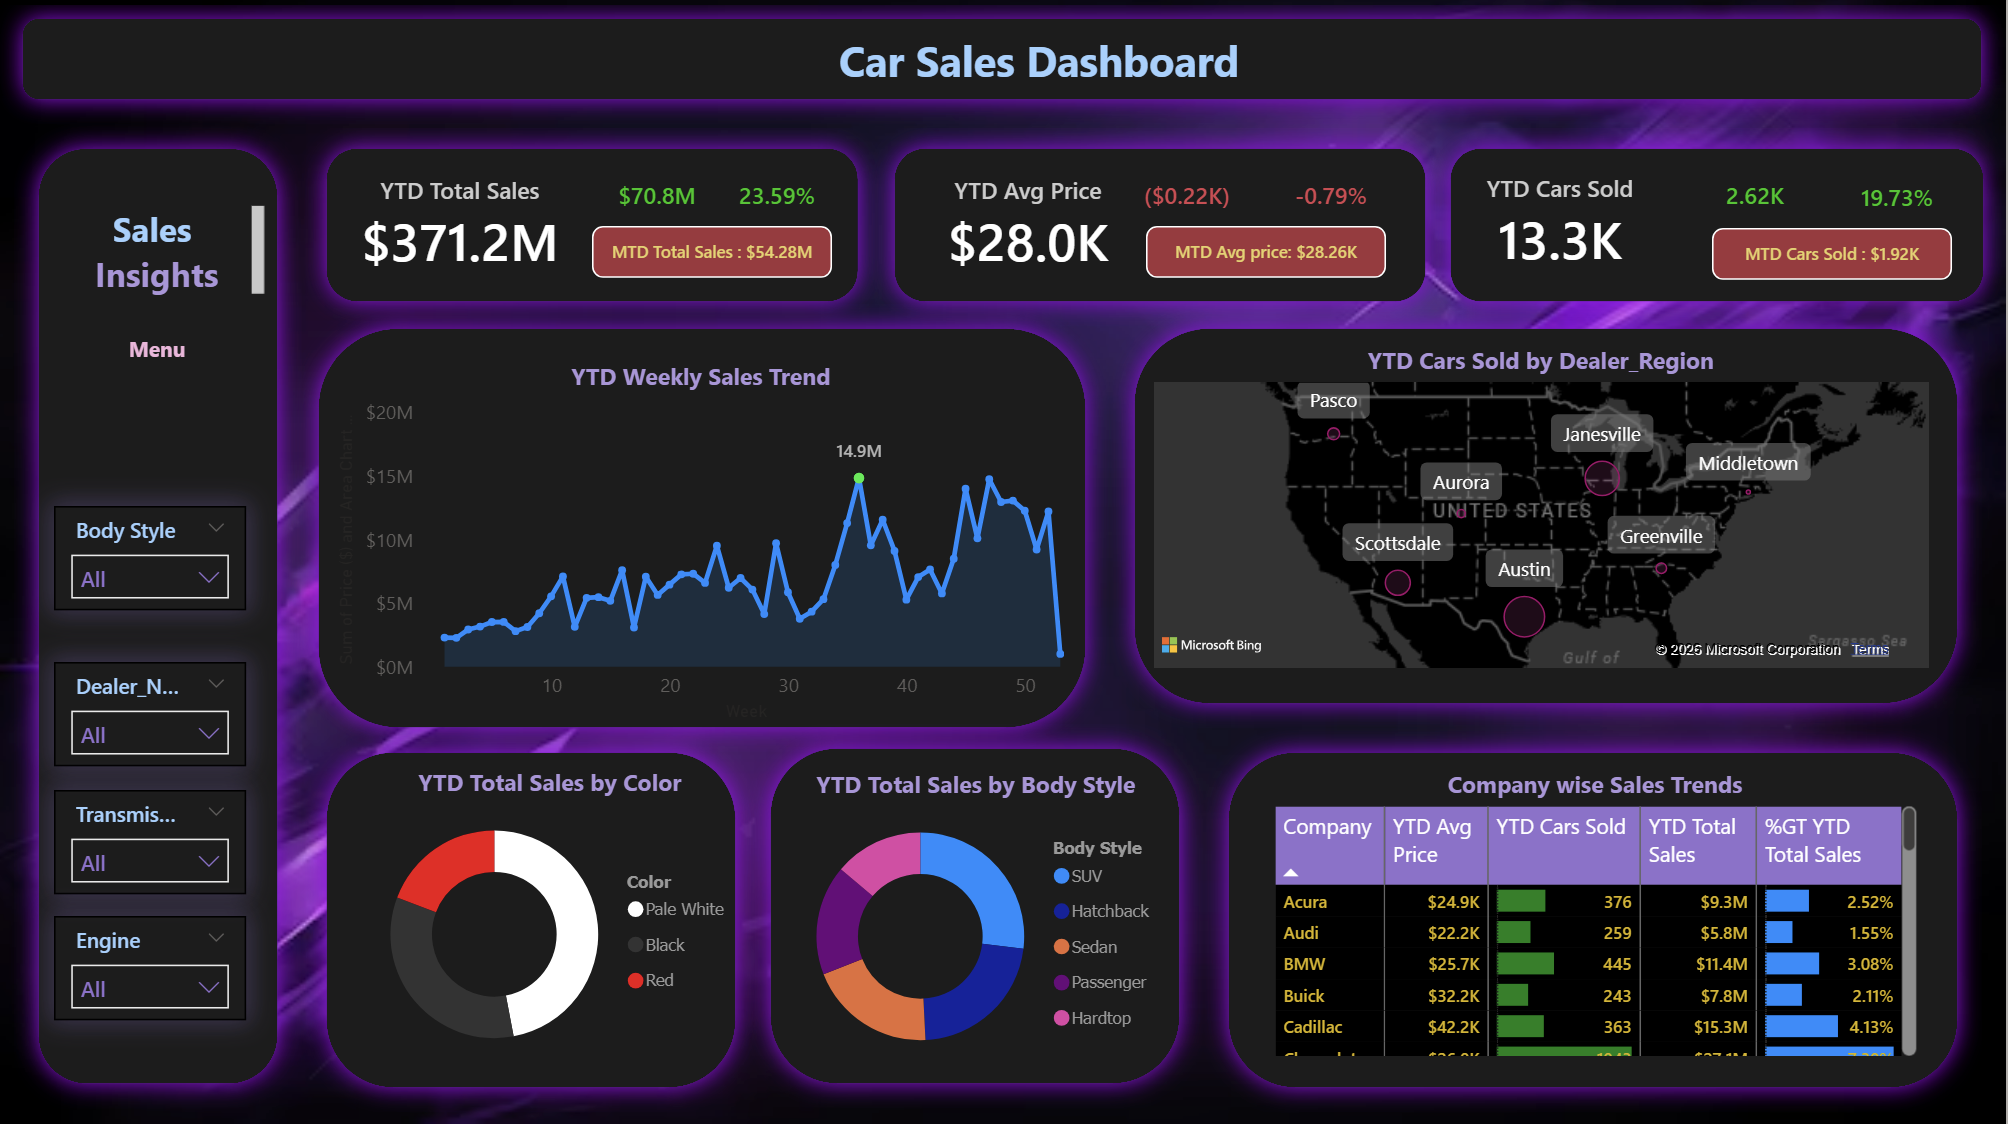

The page's visual inventory and layout, read from the dashboard file:
{"tool":"powerbi","page":{"name":"Overview Dashboard","canvas":[1280,720],"ordinal":0},"visuals":[{"type":"shape","box":[10.2,82.9,183.6,627.3],"z":0},{"type":"shape","box":[193.8,82.9,370,128.8],"z":1000},{"type":"shape","box":[555.9,82.9,369.7,128.8],"z":2000},{"type":"shape","box":[910.3,82.9,371,128.8],"z":3000},{"type":"shape","box":[0,0,1280,82.9],"z":4000},{"type":"card","title":"YTD Total Sales","fields":{"Values":["car_data.YTD Total Sales"]},"box":[193.8,114.7,201.4,66.3],"z":5000},{"type":"card","fields":{"Values":["car_data.Sales Difference"]},"box":[385,113.5,70.1,34.4],"z":6000},{"type":"card","fields":{"Values":["car_data.YOY Sales Growth"]},"box":[461.5,113.5,70.1,34.4],"z":7000},{"type":"card","fields":{"Values":["car_data.MTD KPI"]},"box":[378.6,147.9,153,33.1],"z":8000},{"type":"card","title":"YTD Avg Price","fields":{"Values":["car_data.YTD Avg Price"]},"box":[555.9,114.7,201.4,66.3],"z":9000},{"type":"card","fields":{"Values":["car_data.Avg Price Diff"]},"box":[722.9,113.5,70.1,34.4],"z":10000},{"type":"card","fields":{"Values":["car_data.YOY Avg Price growth"]},"box":[814.7,113.5,70.1,34.4],"z":11000},{"type":"card","fields":{"Values":["car_data.MTD Avg Price KPI"]},"box":[731.8,147.9,153,33.1],"z":12000},{"type":"card","title":"YTD Cars Sold","fields":{"Values":["car_data.YTD Cars Sold"]},"box":[895,113.5,201.4,66.3],"z":13000},{"type":"card","fields":{"Values":["car_data.Cars Sold Diff"]},"box":[1084.9,113.5,70.1,34.4],"z":14000},{"type":"card","fields":{"Values":["car_data.YOY Car Sold Growth"]},"box":[1175.5,114.7,70.1,34.4],"z":15000},{"type":"card","fields":{"Values":["car_data.MTD Cars Solds KPI"]},"box":[1092.6,149.2,153,33.1],"z":16000},{"type":"shape","box":[188.7,197.6,520.2,285.6],"z":17000},{"type":"areaChart","title":"YTD Weekly Sales Trend","fields":{"Category":["Calender Table.Week"],"Y":["Sum(car_data.Price ($))","car_data.Area Chart Max Point"]},"box":[211.6,233.3,473,234.6],"z":18000},{"type":"shape","box":[193.8,467.9,292,244.8],"z":19000},{"type":"shape","box":[708.8,197.6,555.9,270.3],"z":20000},{"type":"shape","box":[476.8,465.3,292,244.8],"z":21000},{"type":"shape","box":[768.8,467.9,495.9,244.8],"z":22000},{"type":"donutChart","fields":{"Y":["car_data.YTD Total Sales"],"Category":["car_data.Color"]},"box":[226.9,492.1,249.9,195.1],"z":23000},{"type":"donutChart","fields":{"Category":["car_data.Body Style"],"Y":["car_data.YTD Total Sales"]},"box":[498.5,493.4,249.9,195.1],"z":24000},{"type":"map","fields":{"Category":["car_data.Dealer_Region"],"Size":["car_data.YTD Cars Sold"]},"box":[731.8,223.1,503.6,211.6],"z":25000},{"type":"tableEx","title":"Company wise Sales Trends","fields":{"Values":["car_data.Company","car_data.YTD Avg Price","car_data.YTD Cars Sold","car_data.YTD Total Sales1","car_data.YTD Total Sales"]},"box":[808.3,493.4,419.4,188.7],"z":26000},{"type":"textbox","box":[483,19.1,360.8,45.9],"z":27000},{"type":"slicer","fields":{"Values":["car_data.Body Style"]},"box":[35.7,326.4,122.4,66.3],"z":28000},{"type":"slicer","fields":{"Values":["car_data.Dealer_Name"]},"box":[35.7,425.8,122.4,66.3],"z":29000},{"type":"slicer","fields":{"Values":["car_data.Transmission"]},"box":[35.7,507.4,122.4,66.3],"z":30000},{"type":"slicer","fields":{"Values":["car_data.Engine"]},"box":[35.7,587.7,122.4,66.3],"z":31000},{"type":"textbox","box":[35.7,130,139,66.3],"z":32000},{"type":"textbox","box":[44.6,211.6,113.5,30.6],"z":32001}]}

Visuals, with their boxes in screenshot pixels (x1, y1, x2, y2), scaled from the page's 1280x720 canvas onto the 2008x1124 screenshot:
shape: 16:129:304:1109
shape: 304:129:884:330
shape: 872:129:1452:330
shape: 1428:129:2007:330
shape: 0:0:2007:129
"YTD Total Sales" card: 304:179:620:283
card - car_data.Sales Difference: 604:177:714:231
card - car_data.YOY Sales Growth: 724:177:834:231
card - car_data.MTD KPI: 594:231:834:283
"YTD Avg Price" card: 872:179:1188:283
card - car_data.Avg Price Diff: 1134:177:1244:231
card - car_data.YOY Avg Price growth: 1278:177:1388:231
card - car_data.MTD Avg Price KPI: 1148:231:1388:283
"YTD Cars Sold" card: 1404:177:1720:281
card - car_data.Cars Sold Diff: 1702:177:1812:231
card - car_data.YOY Car Sold Growth: 1844:179:1954:233
card - car_data.MTD Cars Solds KPI: 1714:233:1954:285
shape: 296:308:1112:754
"YTD Weekly Sales Trend" areaChart: 332:364:1074:730
shape: 304:730:762:1113
shape: 1112:308:1984:730
shape: 748:726:1206:1109
shape: 1206:730:1984:1113
donutChart - car_data.YTD Total Sales x car_data.Color: 356:768:748:1073
donutChart - car_data.Body Style x car_data.YTD Total Sales: 782:770:1174:1075
map - car_data.Dealer_Region x car_data.YTD Cars Sold: 1148:348:1938:679
"Company wise Sales Trends" tableEx: 1268:770:1926:1065
textbox: 758:30:1324:101
slicer - car_data.Body Style: 56:510:248:613
slicer - car_data.Dealer_Name: 56:665:248:768
slicer - car_data.Transmission: 56:792:248:896
slicer - car_data.Engine: 56:917:248:1021
textbox: 56:203:274:306
textbox: 70:330:248:378
